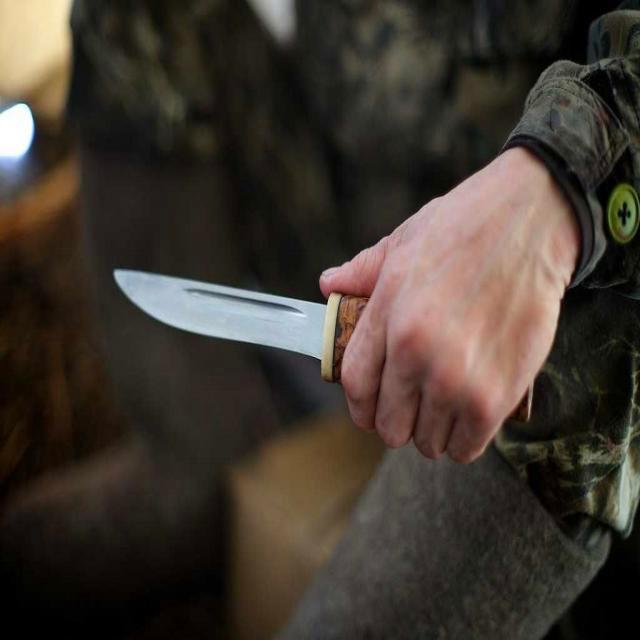Knife: (114, 269, 368, 382)
Knife_Handle: (104, 146, 582, 474)
